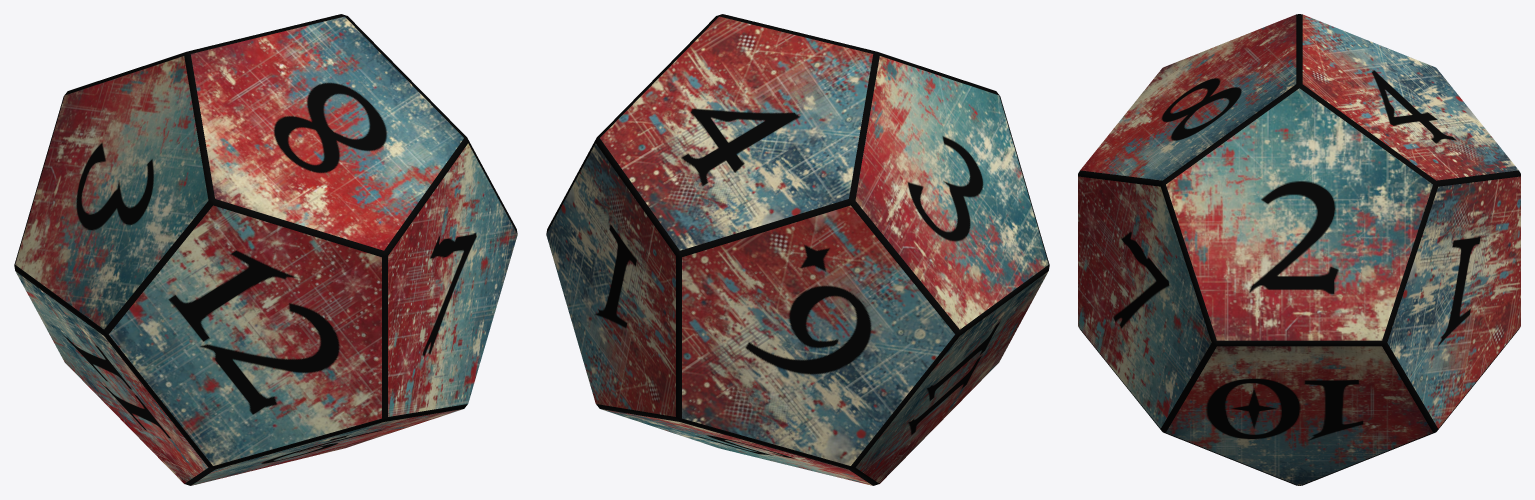
Rendered from chanced12.glb.
3 renders of one model, left to right at view 1: azimuth 30°, elevation 25°; view 2: azimuth 150°, elevation 25°; view 3: azimuth 270°, elevation 25°, orthographic. The views are drawn at different scales.
Visible parts, largest first — view 1: Mesh_0; view 2: Mesh_0; view 3: Mesh_0.
Boxes of the visible parts, bbox=[...] form: Mesh_0: bbox=[14, 14, 517, 485]; Mesh_0: bbox=[546, 14, 1049, 485]; Mesh_0: bbox=[1078, 14, 1520, 485].
Bounding box in the file's own units: 167 × 167 × 167.
Materials: 1 (1 with a texture image).
